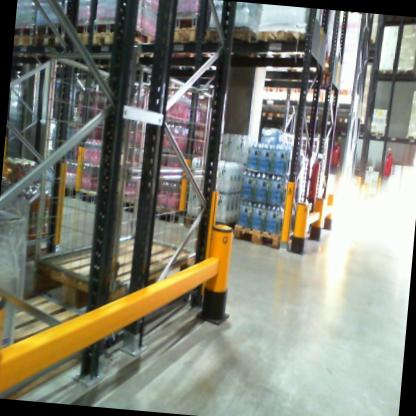pallet: (38, 204, 213, 322), (0, 271, 116, 406), (252, 20, 323, 64), (200, 19, 267, 64), (159, 10, 212, 64), (233, 218, 308, 254), (91, 28, 147, 52), (30, 30, 65, 56), (62, 27, 91, 54), (15, 32, 32, 56), (393, 65, 416, 79), (375, 68, 396, 79)
